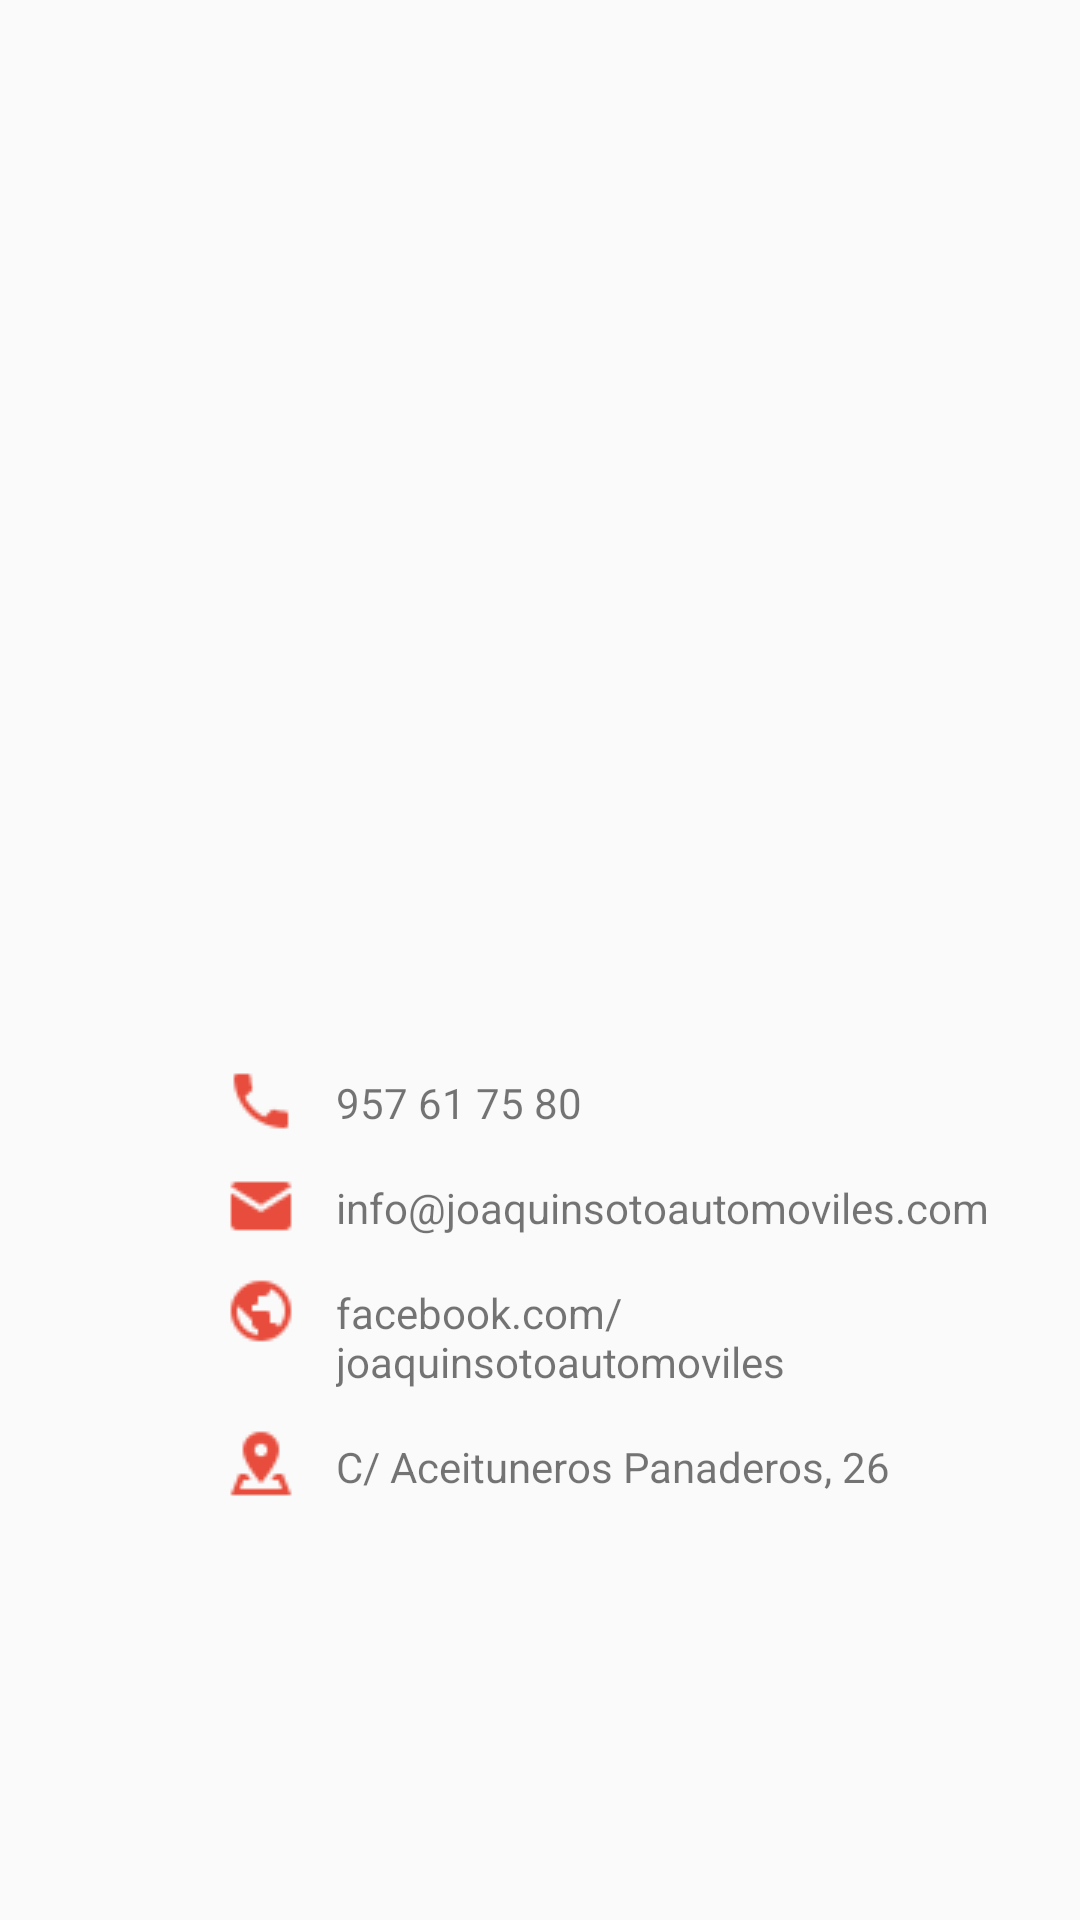

Icon bounding boxes for this 1080 x 1920 phone screenshot, format rect(x1, y1, x2, y2):
correo: rect(230, 1181, 292, 1231)
direccion: rect(230, 1431, 292, 1496)
telefono: rect(233, 1073, 289, 1129)
web: rect(230, 1280, 292, 1342)
